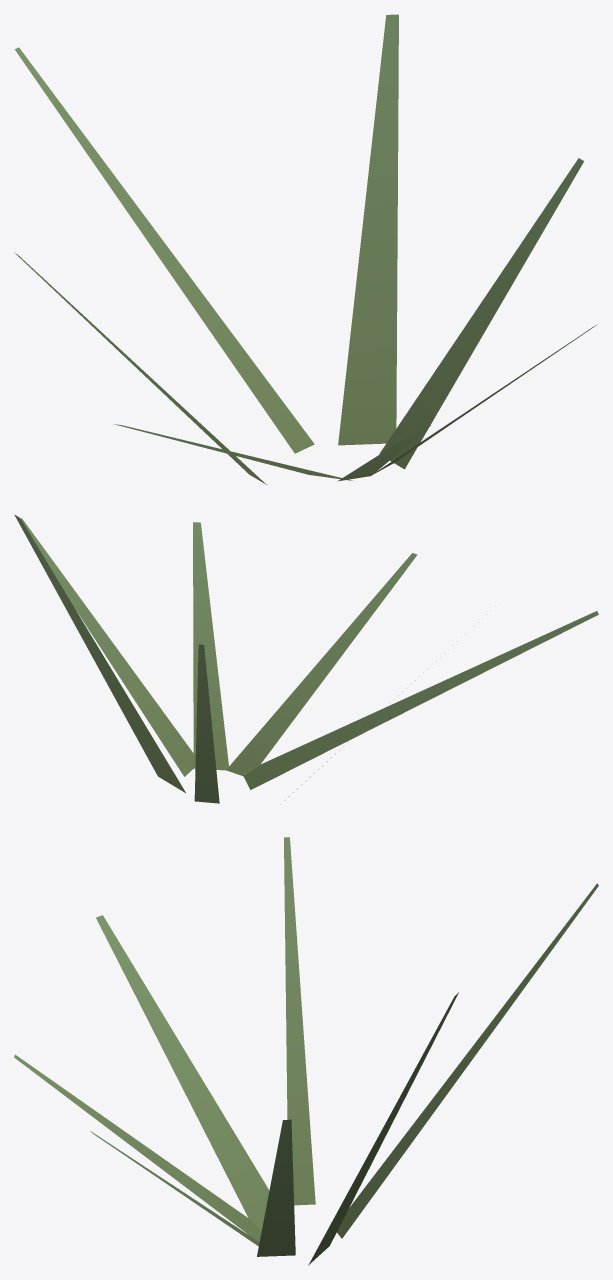
Rendered from shi-daze-wet-field-vegetation-v1-tuft-lod1.fbx.
The picture shows the model from 3 angles, top to bottom: view 1: azimuth 30°, elevation 25°; view 2: azimuth 150°, elevation 25°; view 3: azimuth 270°, elevation 25°; orthographic projection. The views are drawn at different scales.
Visible parts, largest first — view 1: SM_SHI_LowBladeTuft_01_LOD1; view 2: SM_SHI_LowBladeTuft_01_LOD1; view 3: SM_SHI_LowBladeTuft_01_LOD1.
Boxes of the visible parts, <box> form: SM_SHI_LowBladeTuft_01_LOD1: <box>14,14,597,484</box>; SM_SHI_LowBladeTuft_01_LOD1: <box>14,514,598,804</box>; SM_SHI_LowBladeTuft_01_LOD1: <box>14,837,598,1265</box>.
Bounding box in the file's own units: 90 × 52 × 90.
